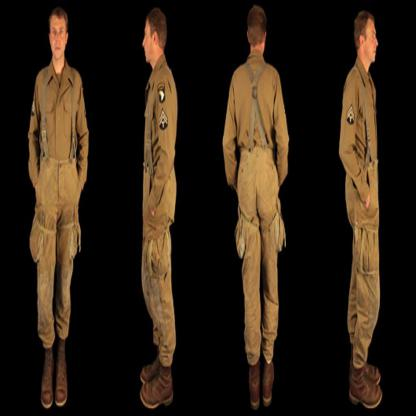face: (52, 19, 66, 60), (365, 24, 379, 62), (144, 24, 154, 62)
